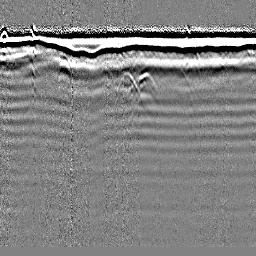cavity: (117, 70, 139, 96)
